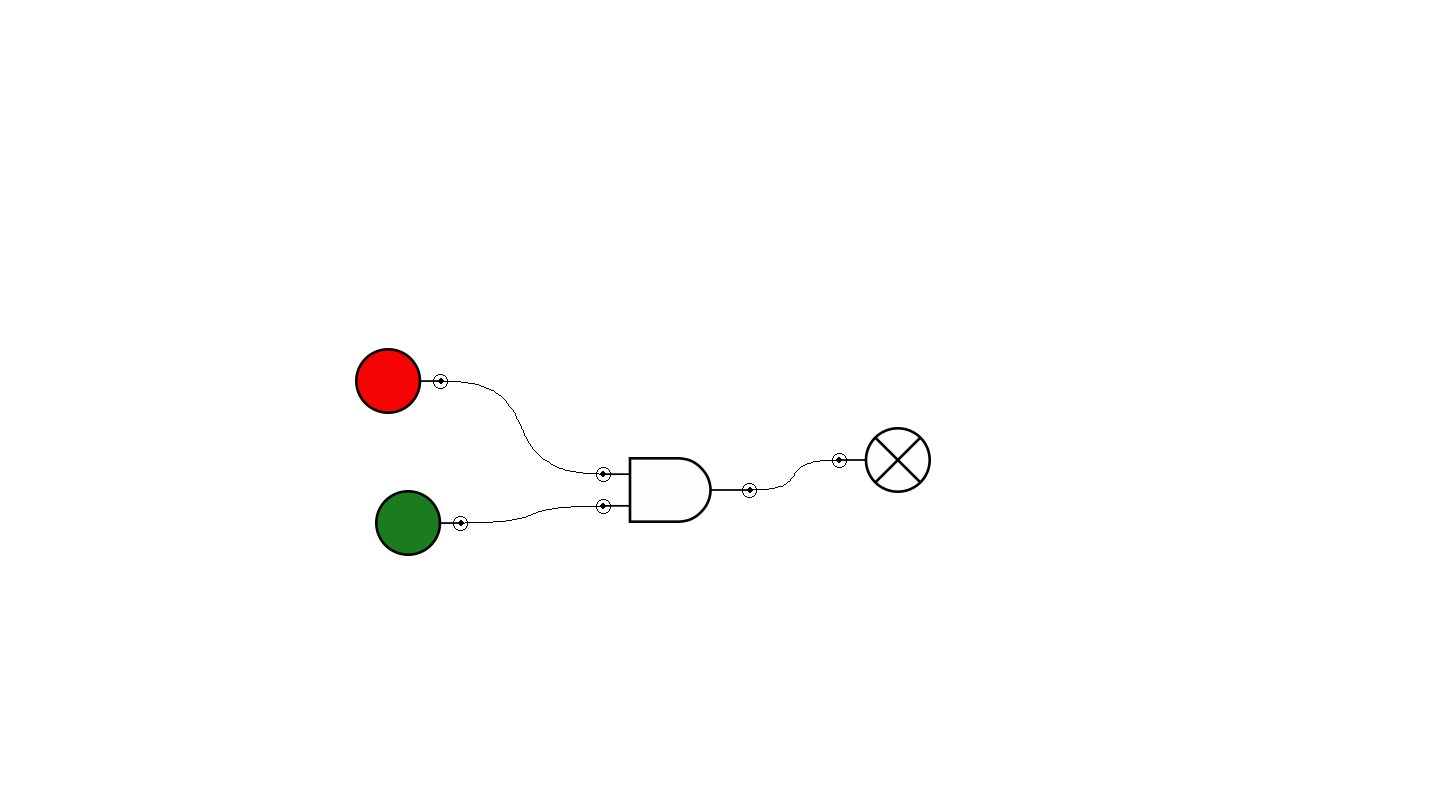and: (596, 457, 757, 523)
bulb: (832, 427, 931, 493)
switch_False: (355, 348, 448, 414)
switch_True: (375, 490, 468, 556)
